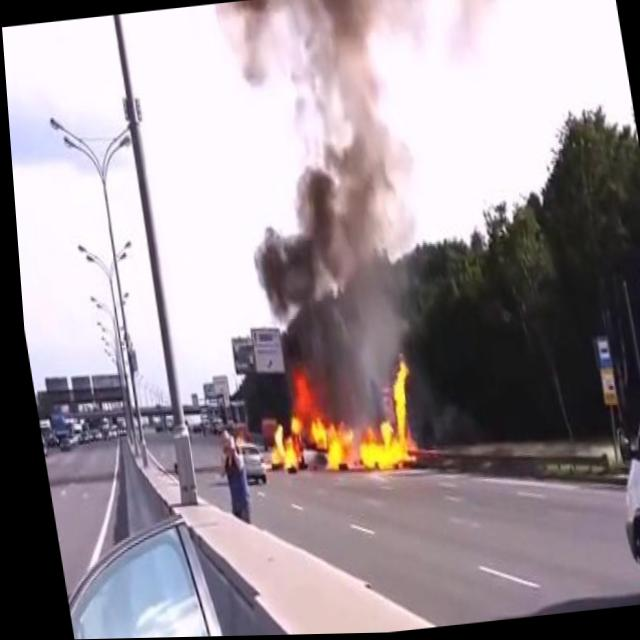fire: (278, 344, 424, 481), (257, 422, 294, 481)
